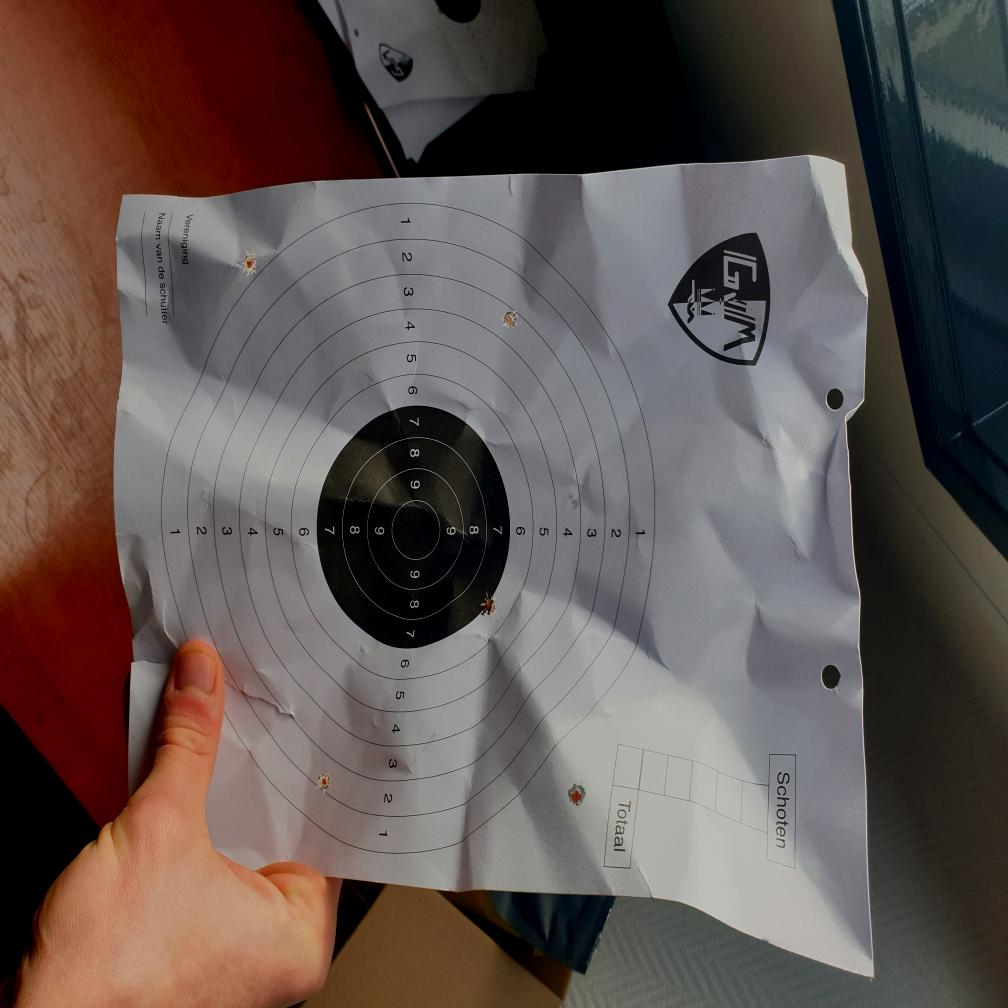0: (567, 783, 586, 806), (242, 249, 256, 276)
2: (317, 773, 331, 792)
3: (501, 309, 518, 328)
7: (480, 591, 498, 617)
Target: (160, 200, 657, 864)
black_contour: (316, 406, 510, 648)
